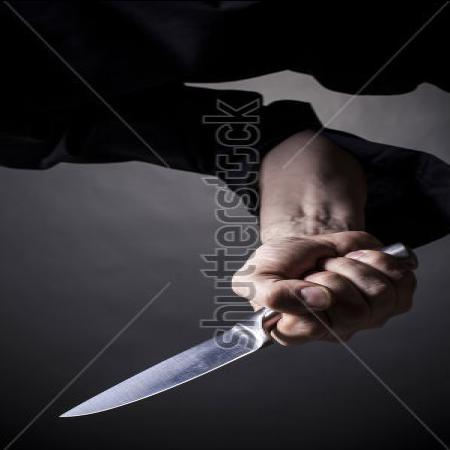long weapon: (47, 256, 355, 423)
